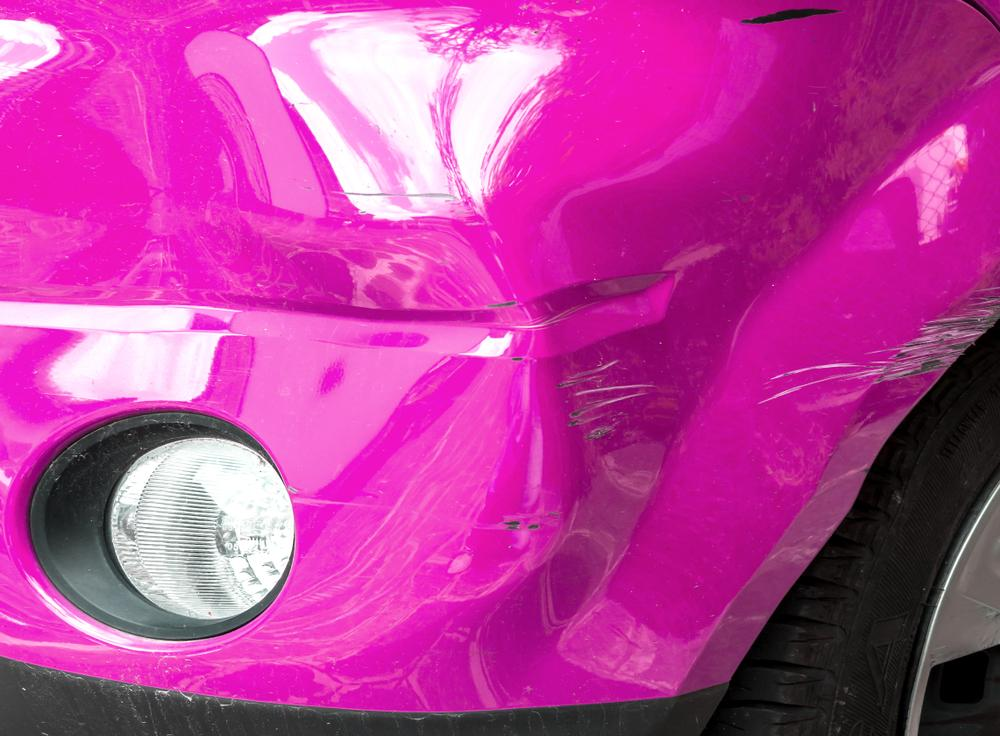dent: (0, 46, 543, 630), (462, 88, 848, 704)
scratch: (829, 281, 1000, 390), (737, 5, 848, 28)
